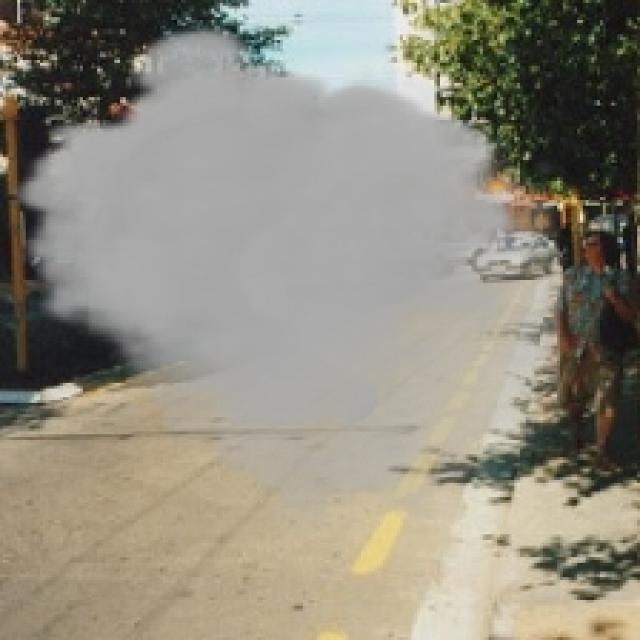Smoke: (11, 22, 560, 538)
